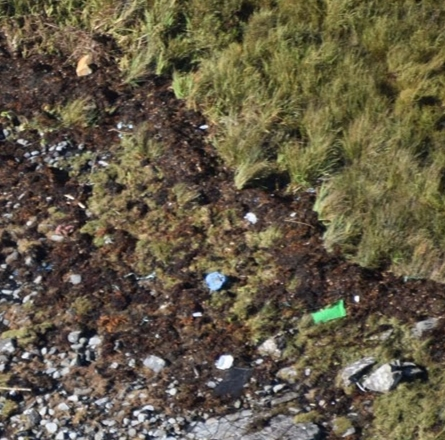white_in_green: (290, 274, 370, 342), (183, 251, 249, 308), (52, 35, 113, 94)
